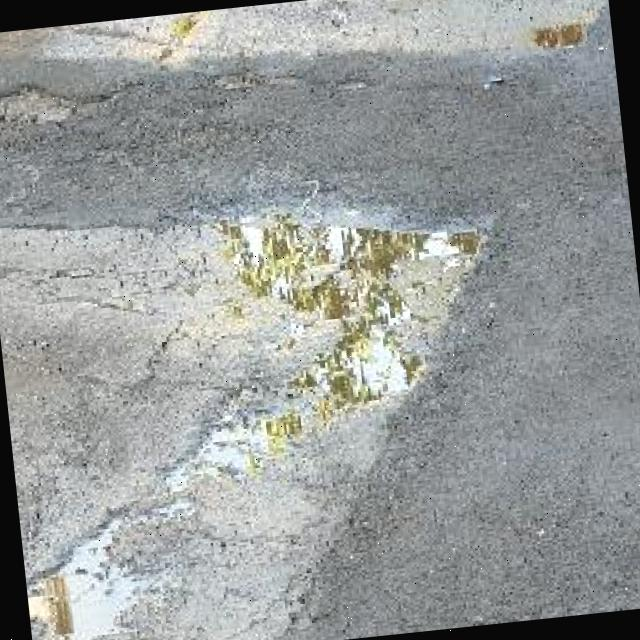waterlogging: (196, 201, 500, 441)
